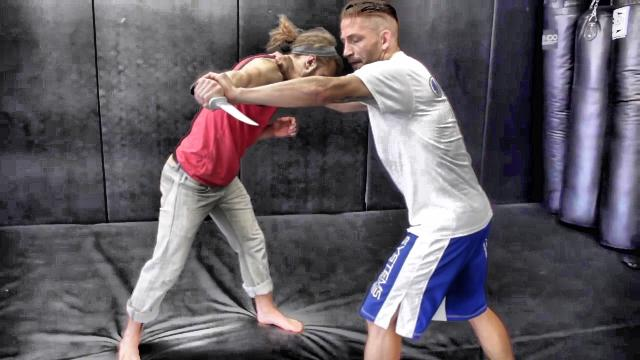knife: (187, 80, 266, 132)
